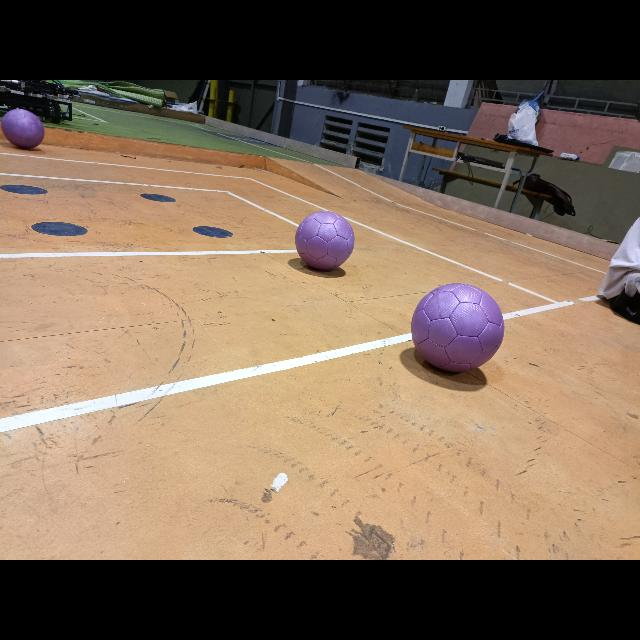P: (412, 283, 504, 371), (296, 210, 354, 270), (2, 109, 44, 149)
